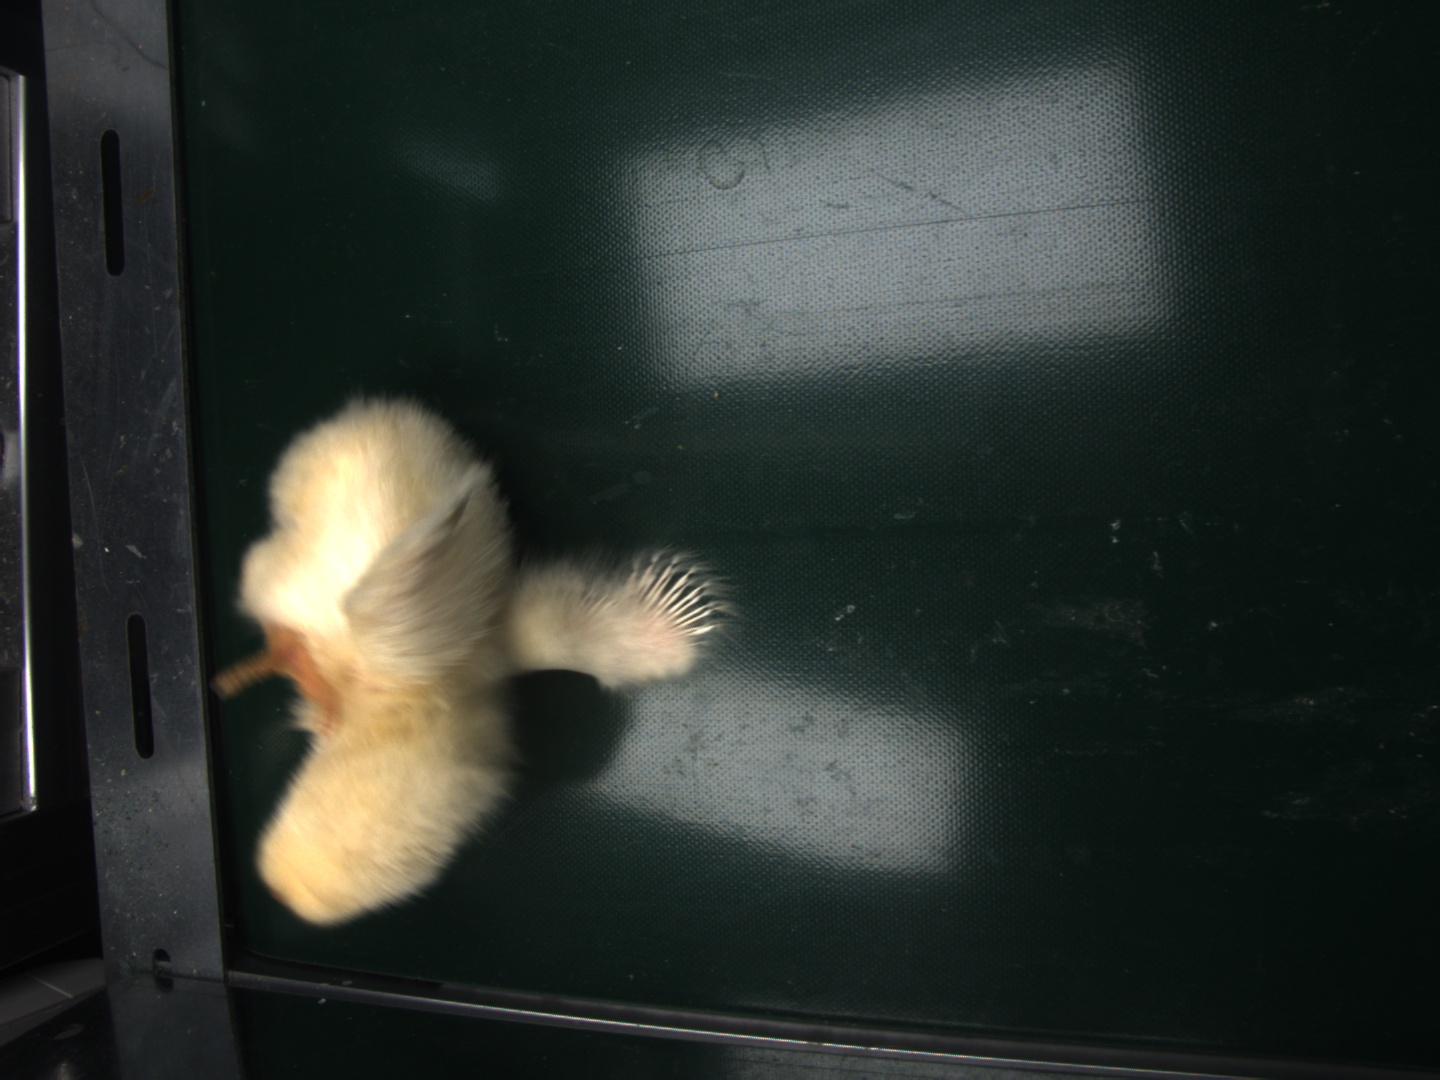male: (629, 558, 713, 635)
